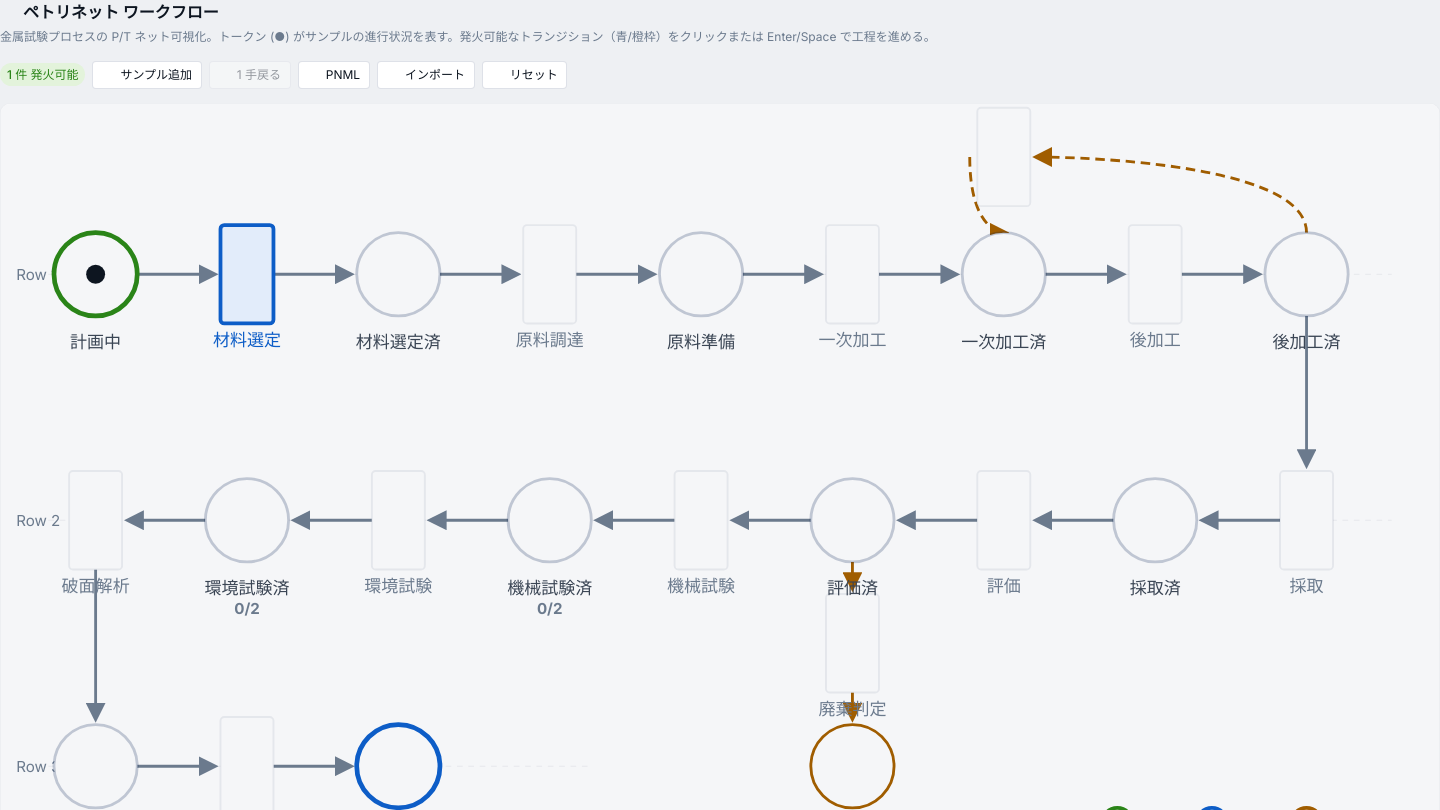
PetriNetPage › プレビューモーダルのキャンセルで閉じる
The image size is (1440, 810).
What coordinates should you click on to do the following:
click the button "PNML"
I would click on:
 (334, 75)
Its box is [298,60,370,89].
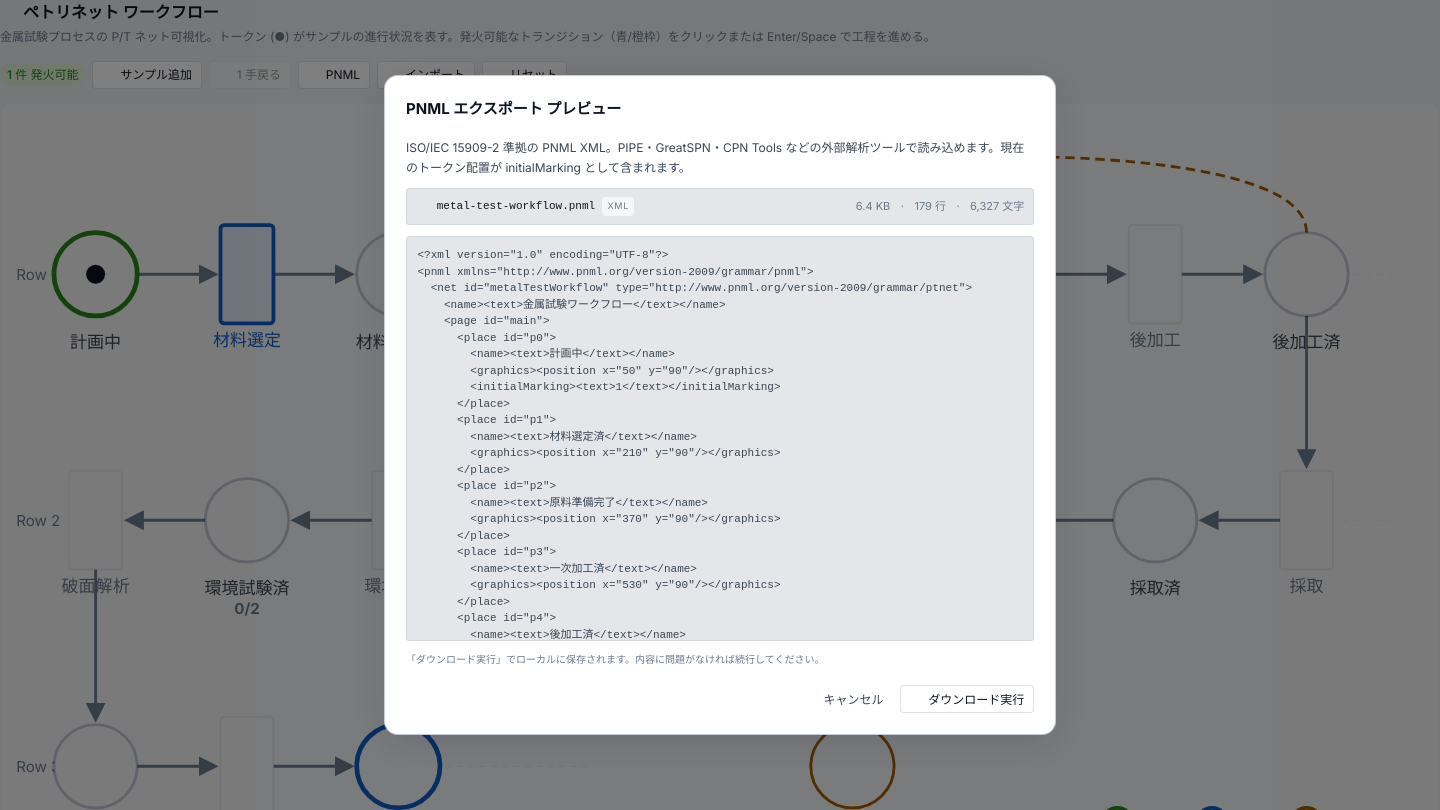
What coordinates should you click on to do the following:
click the button "キャンセル"
I would click on:
 (853, 699)
Its box is [814,685,893,713].
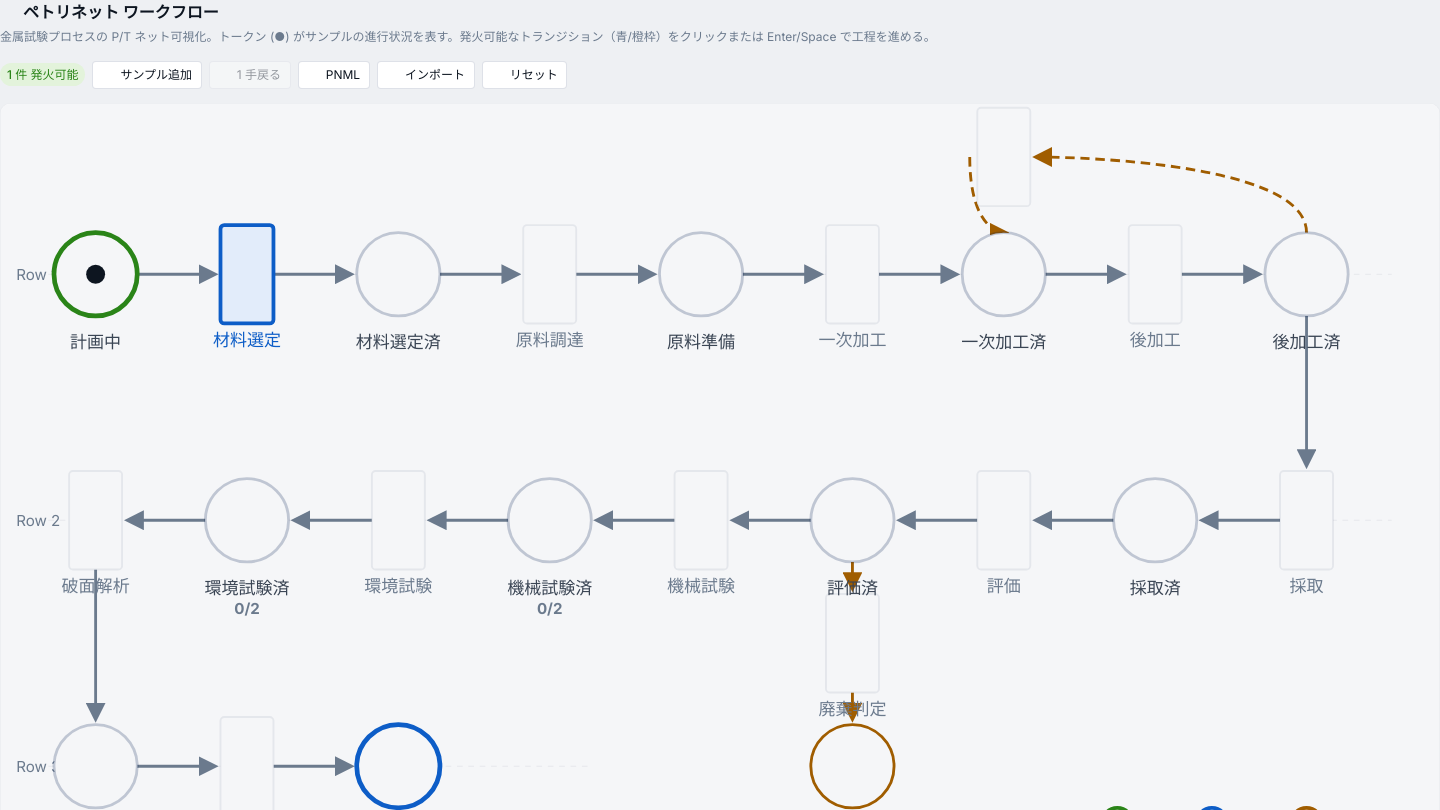
expect the heading "PNML エクスポート プレビュー" is gone: met
